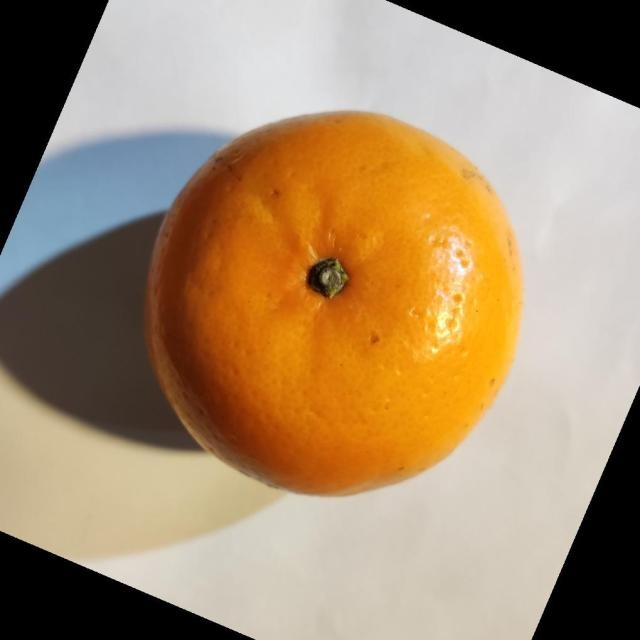agrume: (142, 108, 524, 497)
